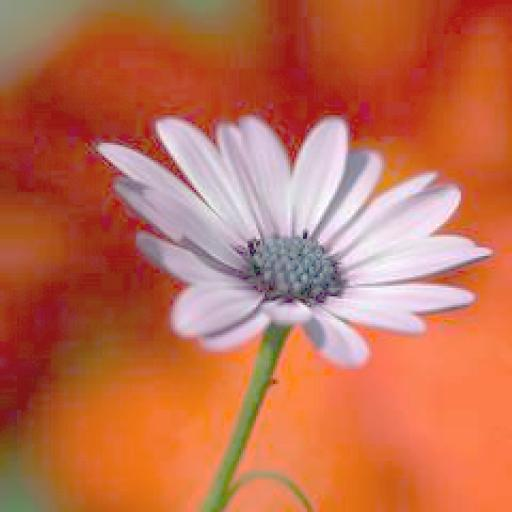daisy: (102, 109, 480, 352)
